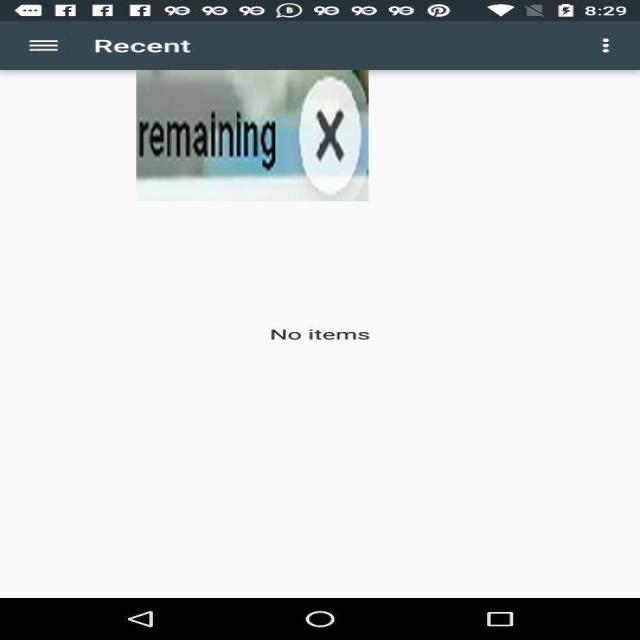misdirection: (136, 70, 369, 201)
